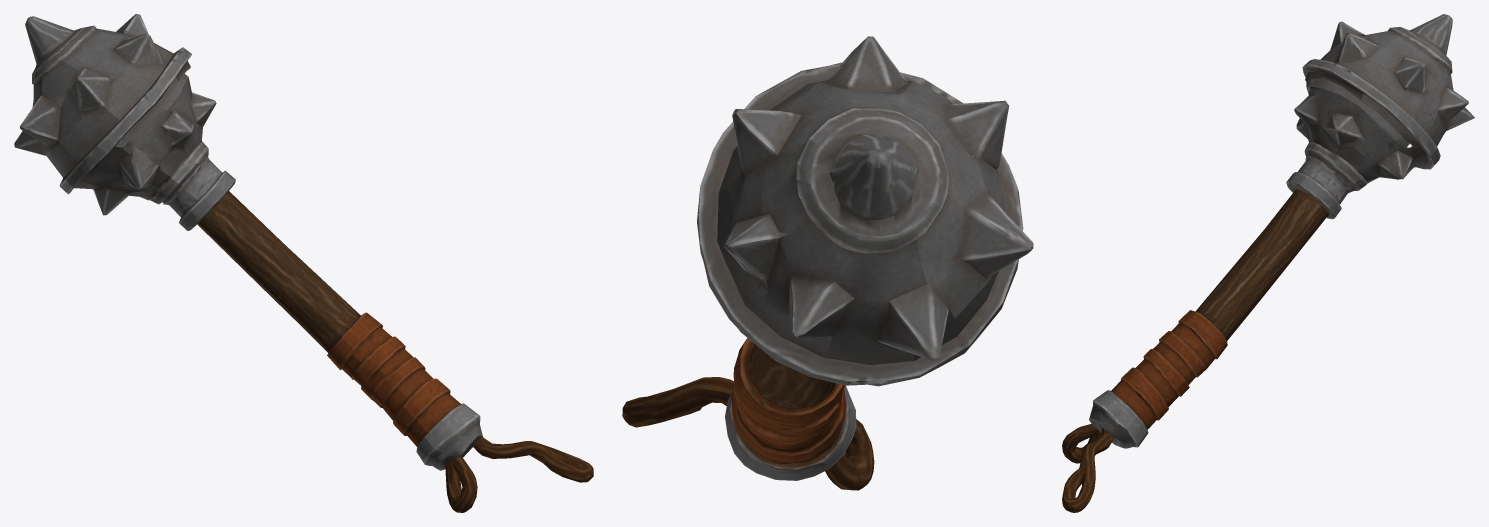
File: spiked_mace_low.glb
The picture shows the model from 3 angles, left to right: view 1: azimuth 30°, elevation 25°; view 2: azimuth 150°, elevation 25°; view 3: azimuth 270°, elevation 25°; orthographic projection. The views are drawn at different scales.
Parts seen in each view (by area): view 1: world; view 2: world; view 3: world.
Part boxes in pixels (x1,y1,x2,y2): world: (14,14,593,512); world: (622,36,1033,490); world: (1062,14,1474,512).
Bounding box in the file's own units: 0.9965 × 0.9642 × 1.
Materials: 1 (1 with a texture image).
